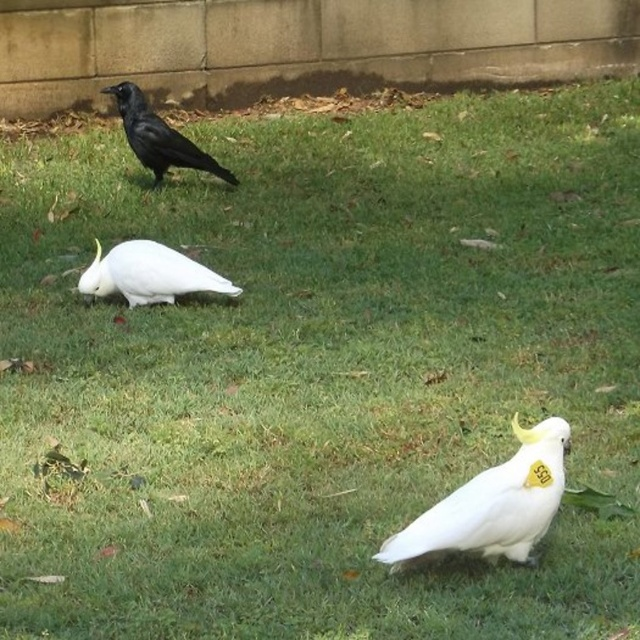Raven: (99, 80, 240, 188)
